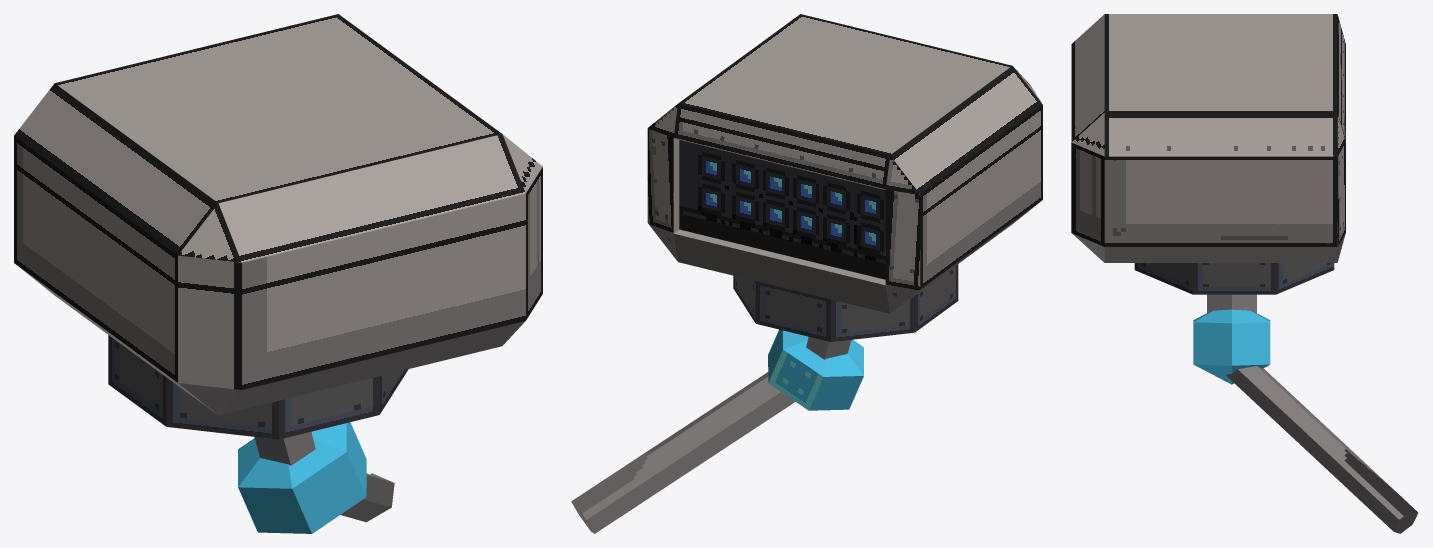
File: PlasmaRocketLauncherLeftSide.gltf
The picture shows the model from 3 angles, left to right: view 1: azimuth 30°, elevation 25°; view 2: azimuth 150°, elevation 25°; view 3: azimuth 270°, elevation 25°; orthographic projection. The views are drawn at different scales.
Parts seen in each view (by area): view 1: RocketLauncher, Base, BallJoint, UpperAttachmentArm (×2); view 2: RocketLauncher, UpperAttachmentArm (×2), Base, BallJoint; view 3: RocketLauncher, UpperAttachmentArm (×2), Base, BallJoint.
Part boxes in pixels (<box>): RocketLauncher: <box>14,14,542,415</box>; Base: <box>108,335,408,439</box>; BallJoint: <box>238,422,366,533</box>; UpperAttachmentArm (×2): <box>254,432,394,522</box>; RocketLauncher: <box>647,14,1042,313</box>; UpperAttachmentArm (×2): <box>571,337,851,533</box>; Base: <box>733,264,958,341</box>; BallJoint: <box>768,329,863,410</box>; RocketLauncher: <box>1071,14,1345,262</box>; UpperAttachmentArm (×2): <box>1207,294,1418,533</box>; Base: <box>1134,263,1334,294</box>; BallJoint: <box>1193,309,1270,384</box>.
Bounding box in the file's own units: 0.6535 × 0.8221 × 0.6521.
1 material, 1 textured.
